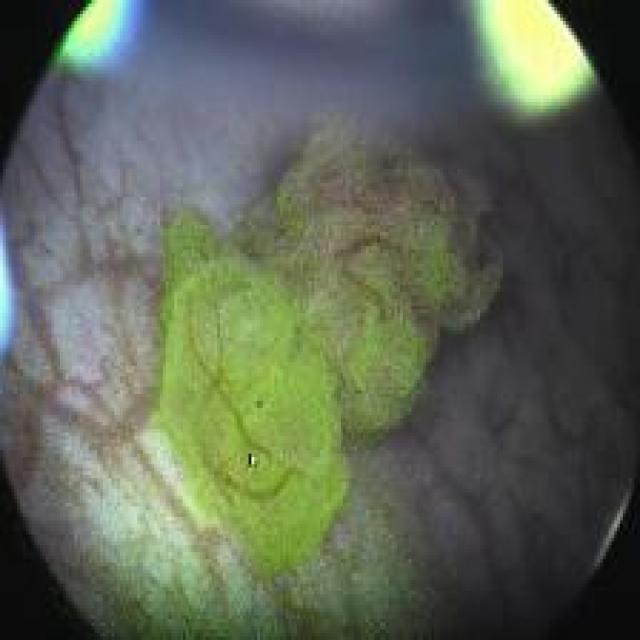color misalignment: (46, 4, 607, 119), (467, 0, 597, 118), (47, 0, 146, 74), (1, 200, 13, 361), (251, 396, 268, 413)
